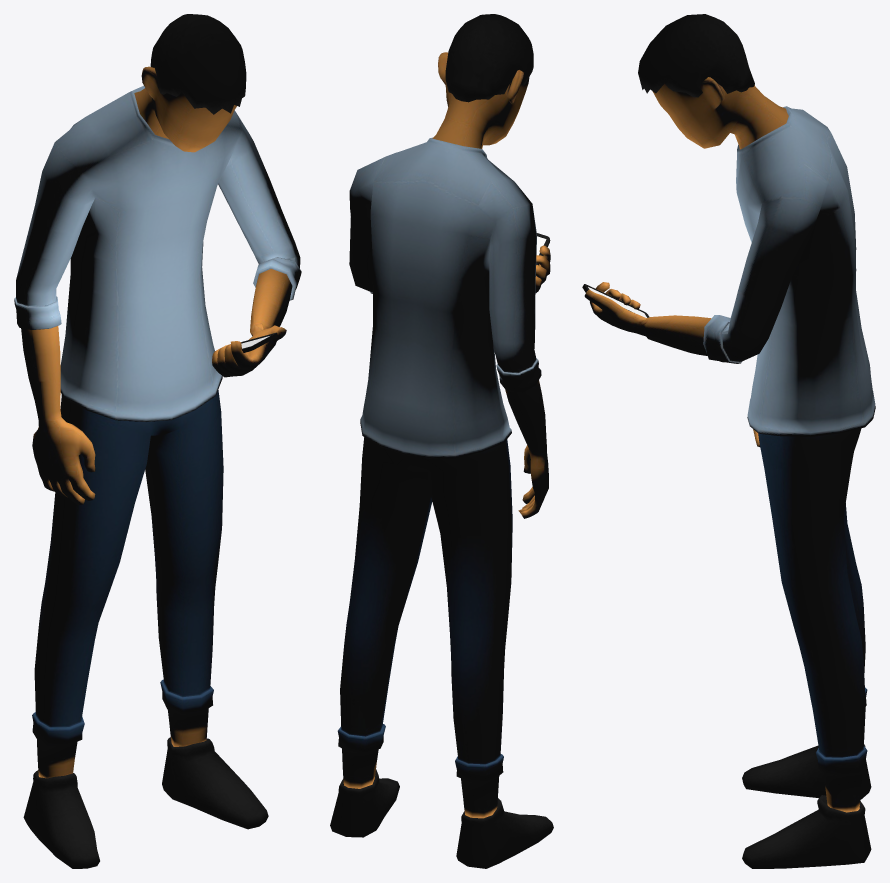
3 renders of one model, left to right at view 1: azimuth 30°, elevation 25°; view 2: azimuth 150°, elevation 25°; view 3: azimuth 270°, elevation 25°, orthographic. The views are drawn at different scales.
Parts seen in each view (by area): view 1: corps_1; view 2: corps_1; view 3: corps_1.
Part boxes in pixels (x1,y1,x2,y2): corps_1: [14, 14, 301, 868]; corps_1: [330, 14, 553, 868]; corps_1: [582, 14, 875, 868].
Size of the model in its own units: 54.43 by 185 by 61.03.
1 material, 1 textured.
